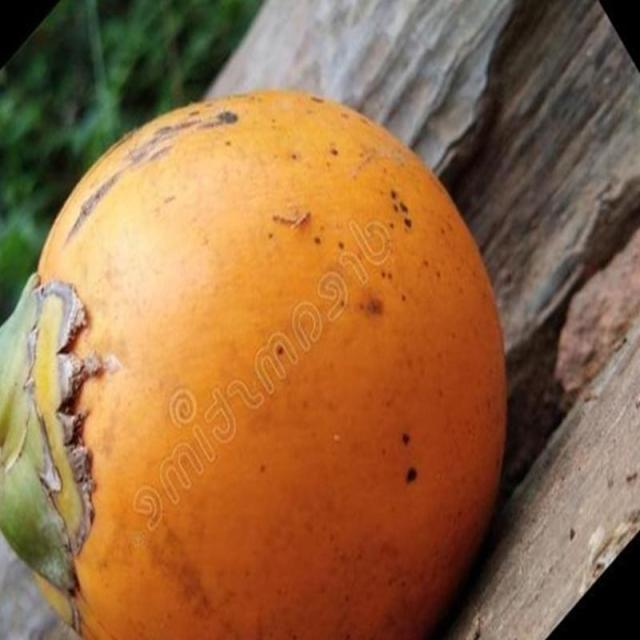good: (0, 91, 509, 639)
